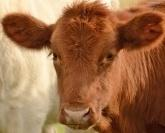muzzles: (55, 106, 100, 130)
